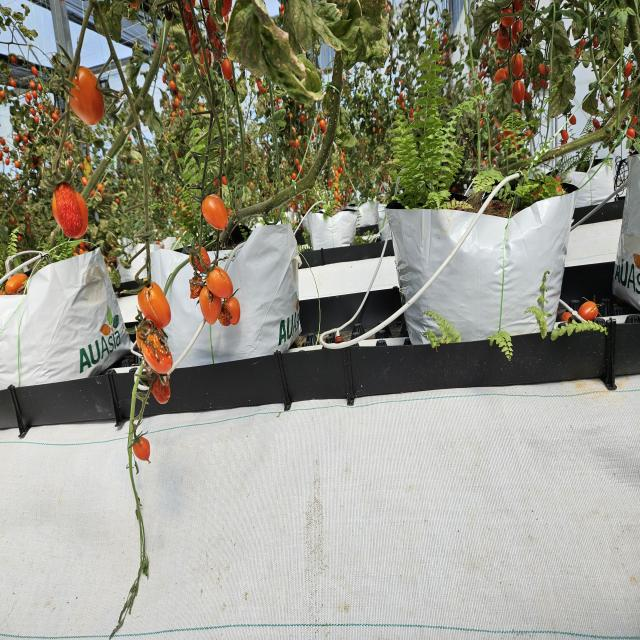Obstacle: (325, 163, 522, 350), (158, 239, 245, 371)
Soilbag: (392, 186, 569, 336), (150, 224, 298, 356), (1, 255, 118, 372)
Tomato: (182, 168, 248, 342), (128, 274, 174, 475), (66, 54, 113, 136), (48, 164, 94, 234)
plant: (142, 7, 304, 215), (398, 2, 560, 187), (6, 23, 113, 242)
